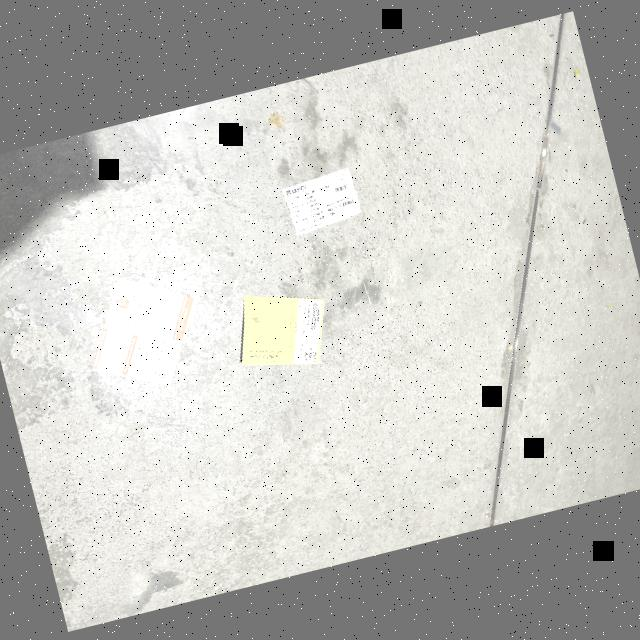scrap_paper: (65, 252, 221, 406), (221, 270, 349, 387), (276, 156, 372, 240)
